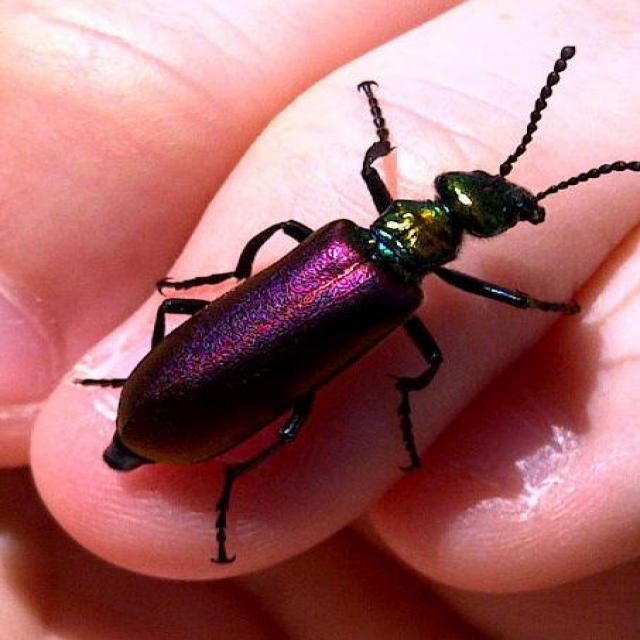BlisterBeetle-Adult-: (68, 44, 632, 566)
